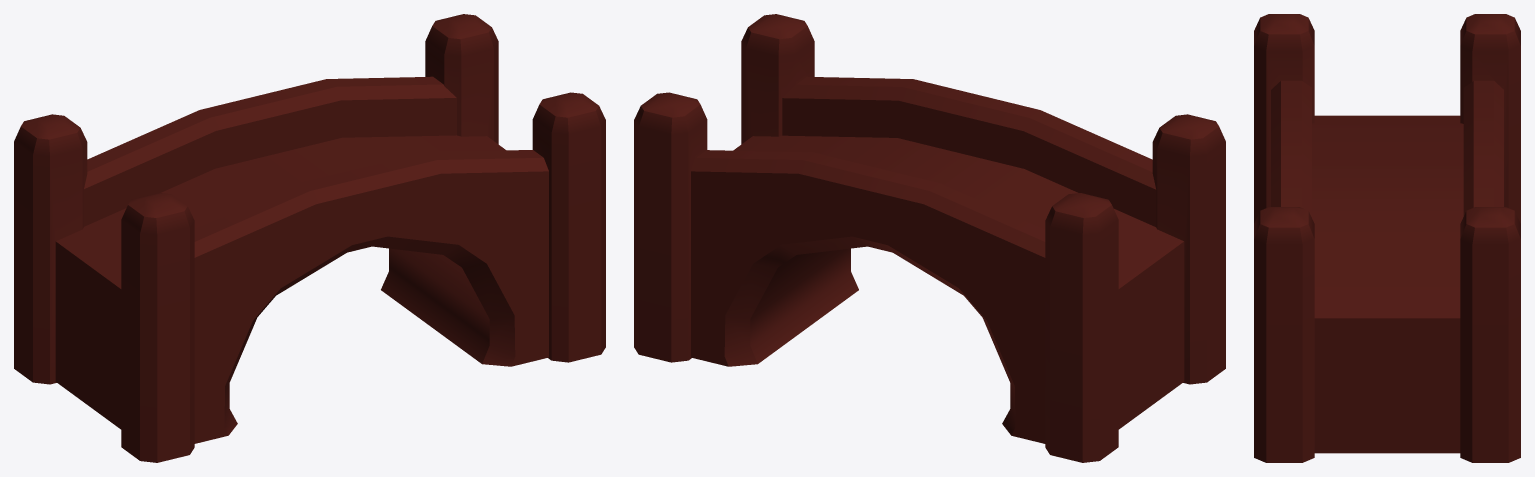
Rendered from bridgeFinal.fbx.
3 renders of one model, left to right at view 1: azimuth 30°, elevation 25°; view 2: azimuth 150°, elevation 25°; view 3: azimuth 270°, elevation 25°, orthographic. The views are drawn at different scales.
Visible parts, largest first — view 1: bridge; view 2: bridge; view 3: bridge.
Part boxes in pixels (left/top/right/bottom): bridge: left=14, top=14, right=605, bottom=462; bridge: left=634, top=14, right=1225, bottom=462; bridge: left=1254, top=14, right=1520, bottom=462.
Bounding box in the file's own units: 14.01 × 7.13 × 7.22.
